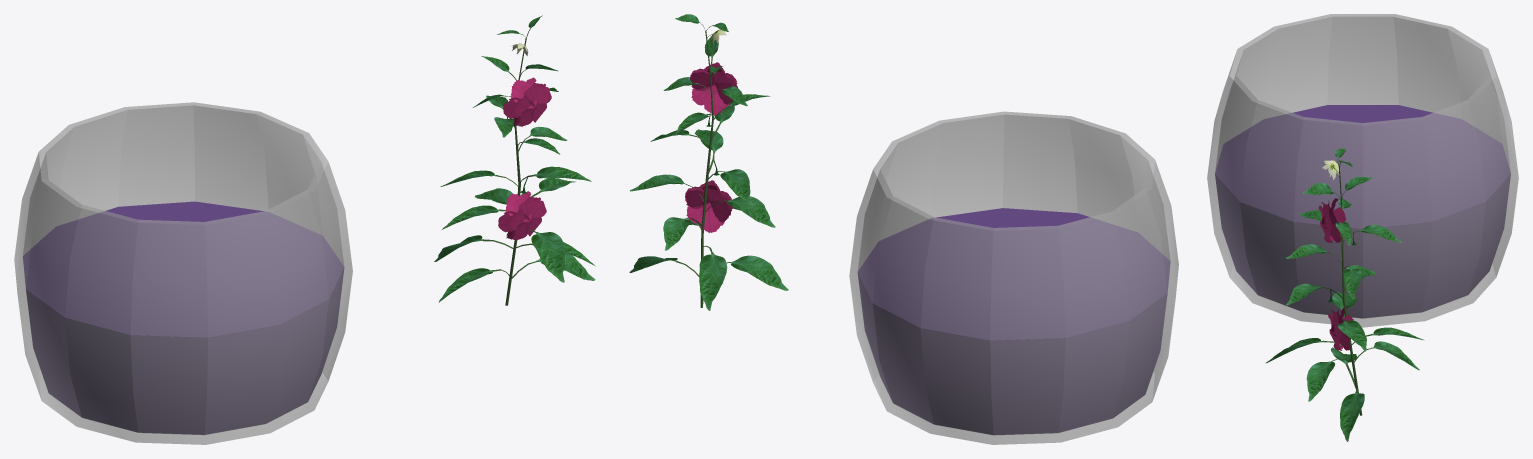
Rendered from water tube anim.fbx.
3 views of the same model, side by side, from view 1: azimuth 30°, elevation 25°; view 2: azimuth 150°, elevation 25°; view 3: azimuth 270°, elevation 25° (orthographic). The views are drawn at different scales.
Parts seen in each view (by area): view 1: polySurface3, balsam_tree; view 2: polySurface3, balsam_tree; view 3: polySurface3, balsam_tree.
Part boxes in pixels (box(x1,y1,x2,y2)): polySurface3: box(14, 102, 352, 444); balsam_tree: box(434, 15, 595, 305); polySurface3: box(849, 111, 1178, 444); balsam_tree: box(629, 14, 788, 310); polySurface3: box(1207, 14, 1518, 327); balsam_tree: box(1266, 148, 1424, 441).
Size of the model in its own units: 513 by 257 by 274.
Materials: 4 (2 with a texture image).
